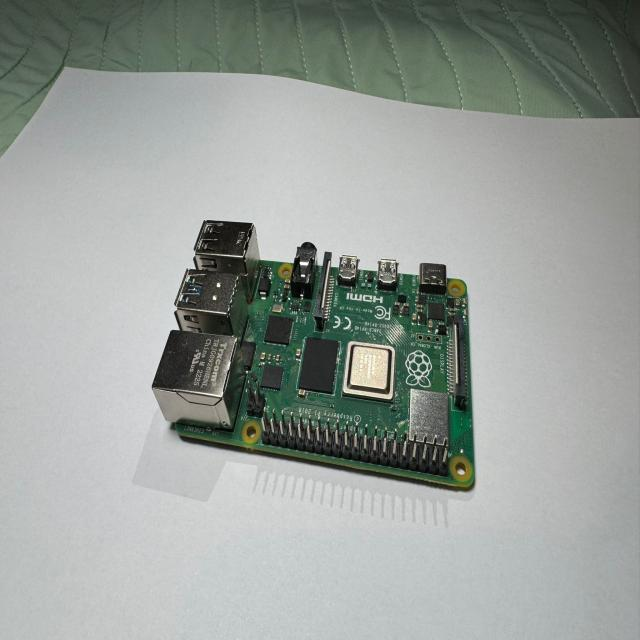CPU: (342, 342, 399, 405)
Ethernet: (152, 331, 252, 432)
GPIO: (258, 409, 454, 476)
RAM: (299, 336, 340, 395)
Raspberry: (152, 222, 475, 491)
micro-hdmi: (338, 255, 360, 288), (377, 258, 398, 291)
